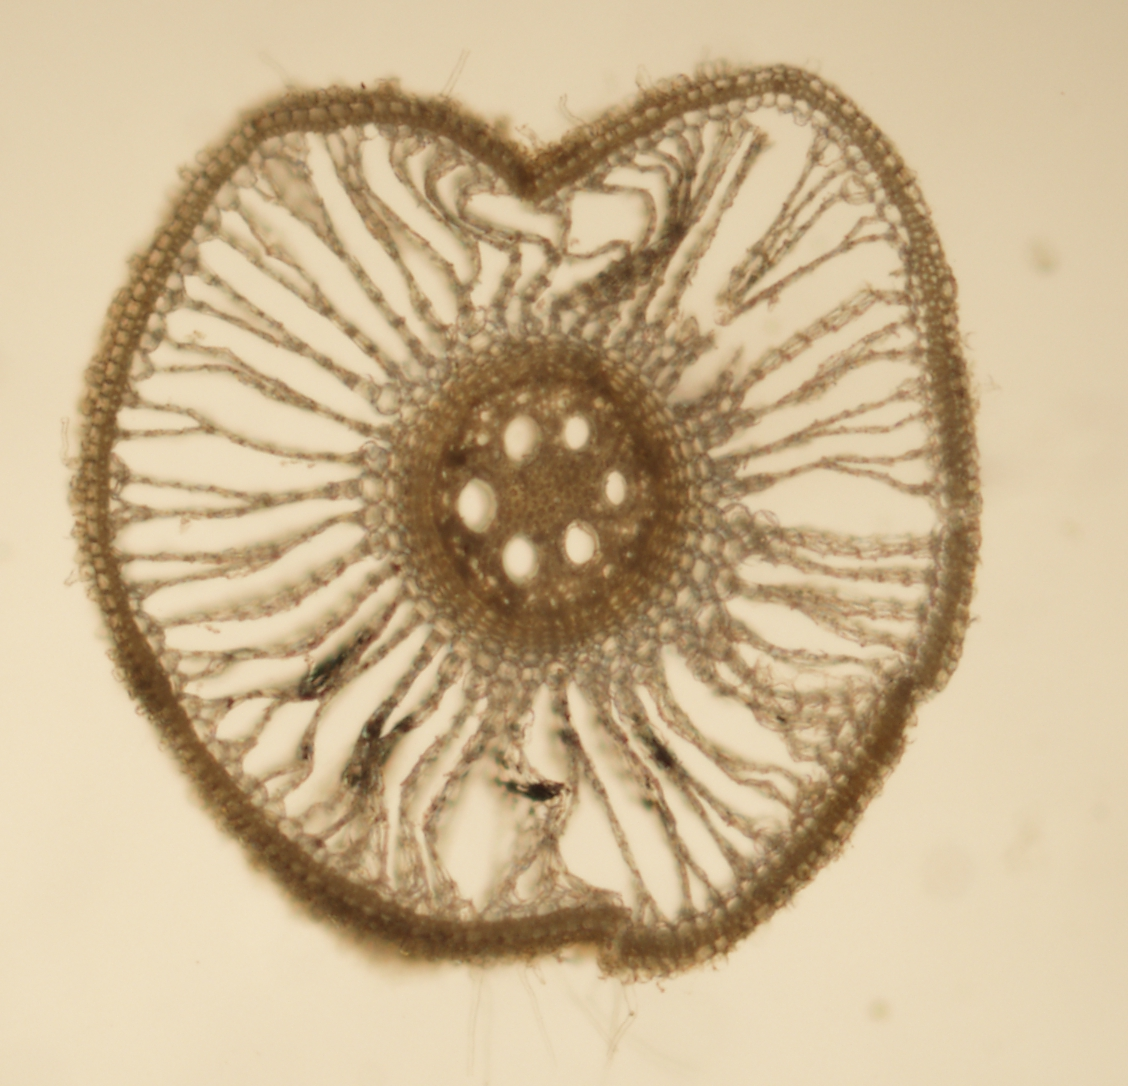lm: (457, 477, 498, 533), (501, 533, 541, 586), (503, 414, 543, 464), (564, 527, 596, 565), (564, 416, 590, 450), (605, 470, 628, 506)
